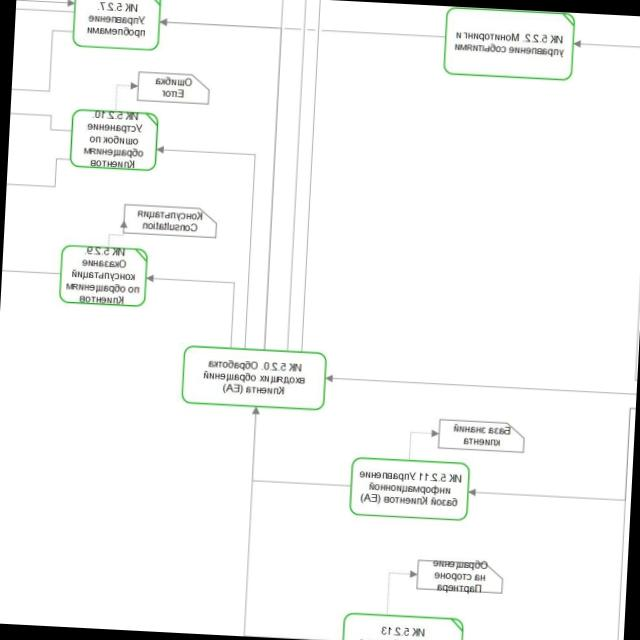arrow: (146, 144, 258, 349), (247, 406, 355, 488), (159, 16, 445, 42), (144, 274, 238, 348), (68, 107, 160, 173), (58, 242, 149, 308), (71, 0, 163, 52)
rectangle: (443, 7, 574, 80), (181, 346, 325, 409), (349, 457, 468, 520)
text_region: (429, 559, 489, 595), (135, 208, 204, 234), (449, 422, 515, 448), (155, 75, 193, 99)
